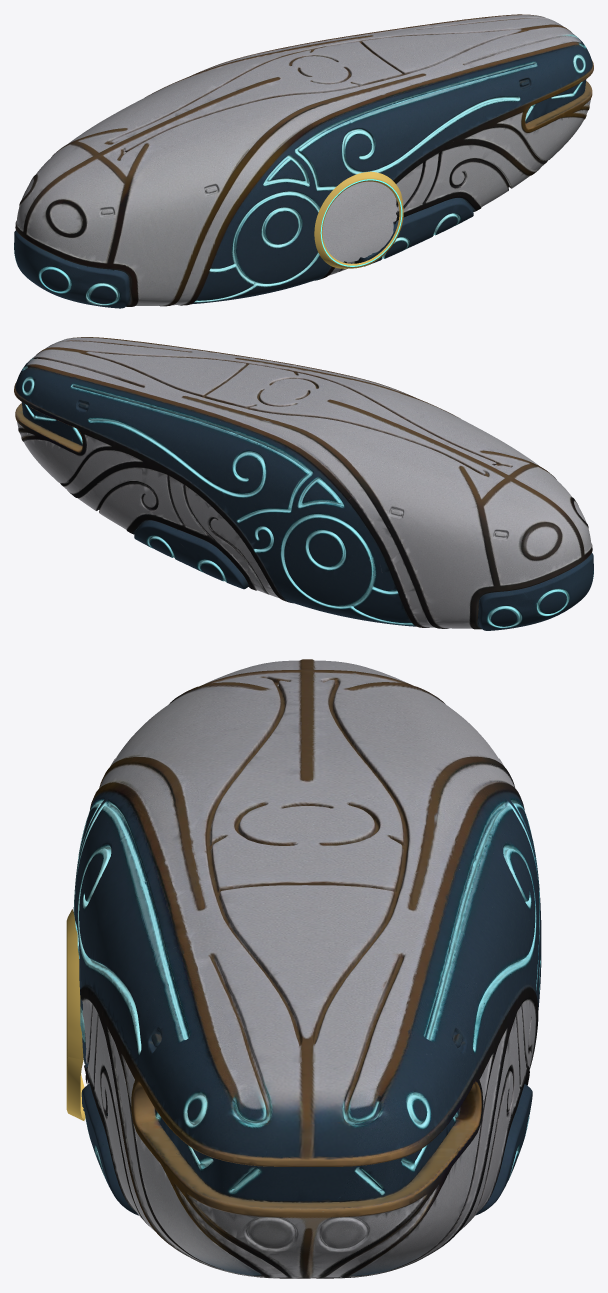
The model's file is starpod_pod_v7.glb.
3 views of the same model, one above another, from view 1: azimuth 30°, elevation 25°; view 2: azimuth 150°, elevation 25°; view 3: azimuth 270°, elevation 25° (orthographic). The views are drawn at different scales.
Size of the model in its own units: 1.9 by 0.5814 by 0.704.
2 materials, 2 textured.
